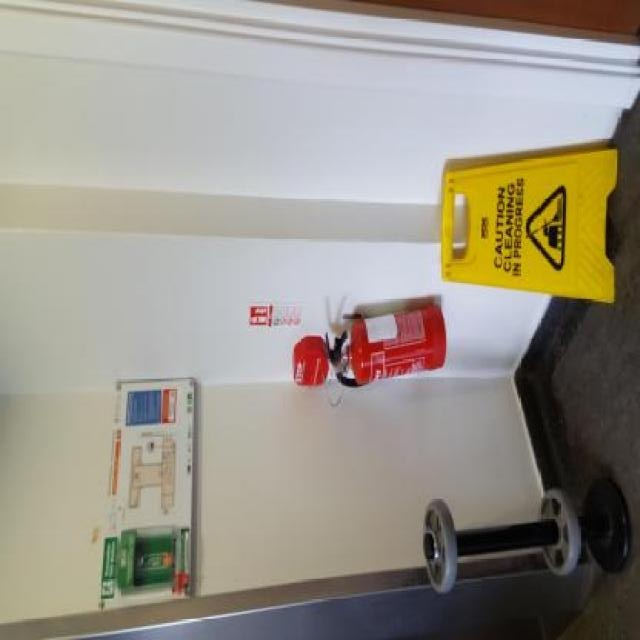fire extinguisher: (325, 301, 446, 387)
